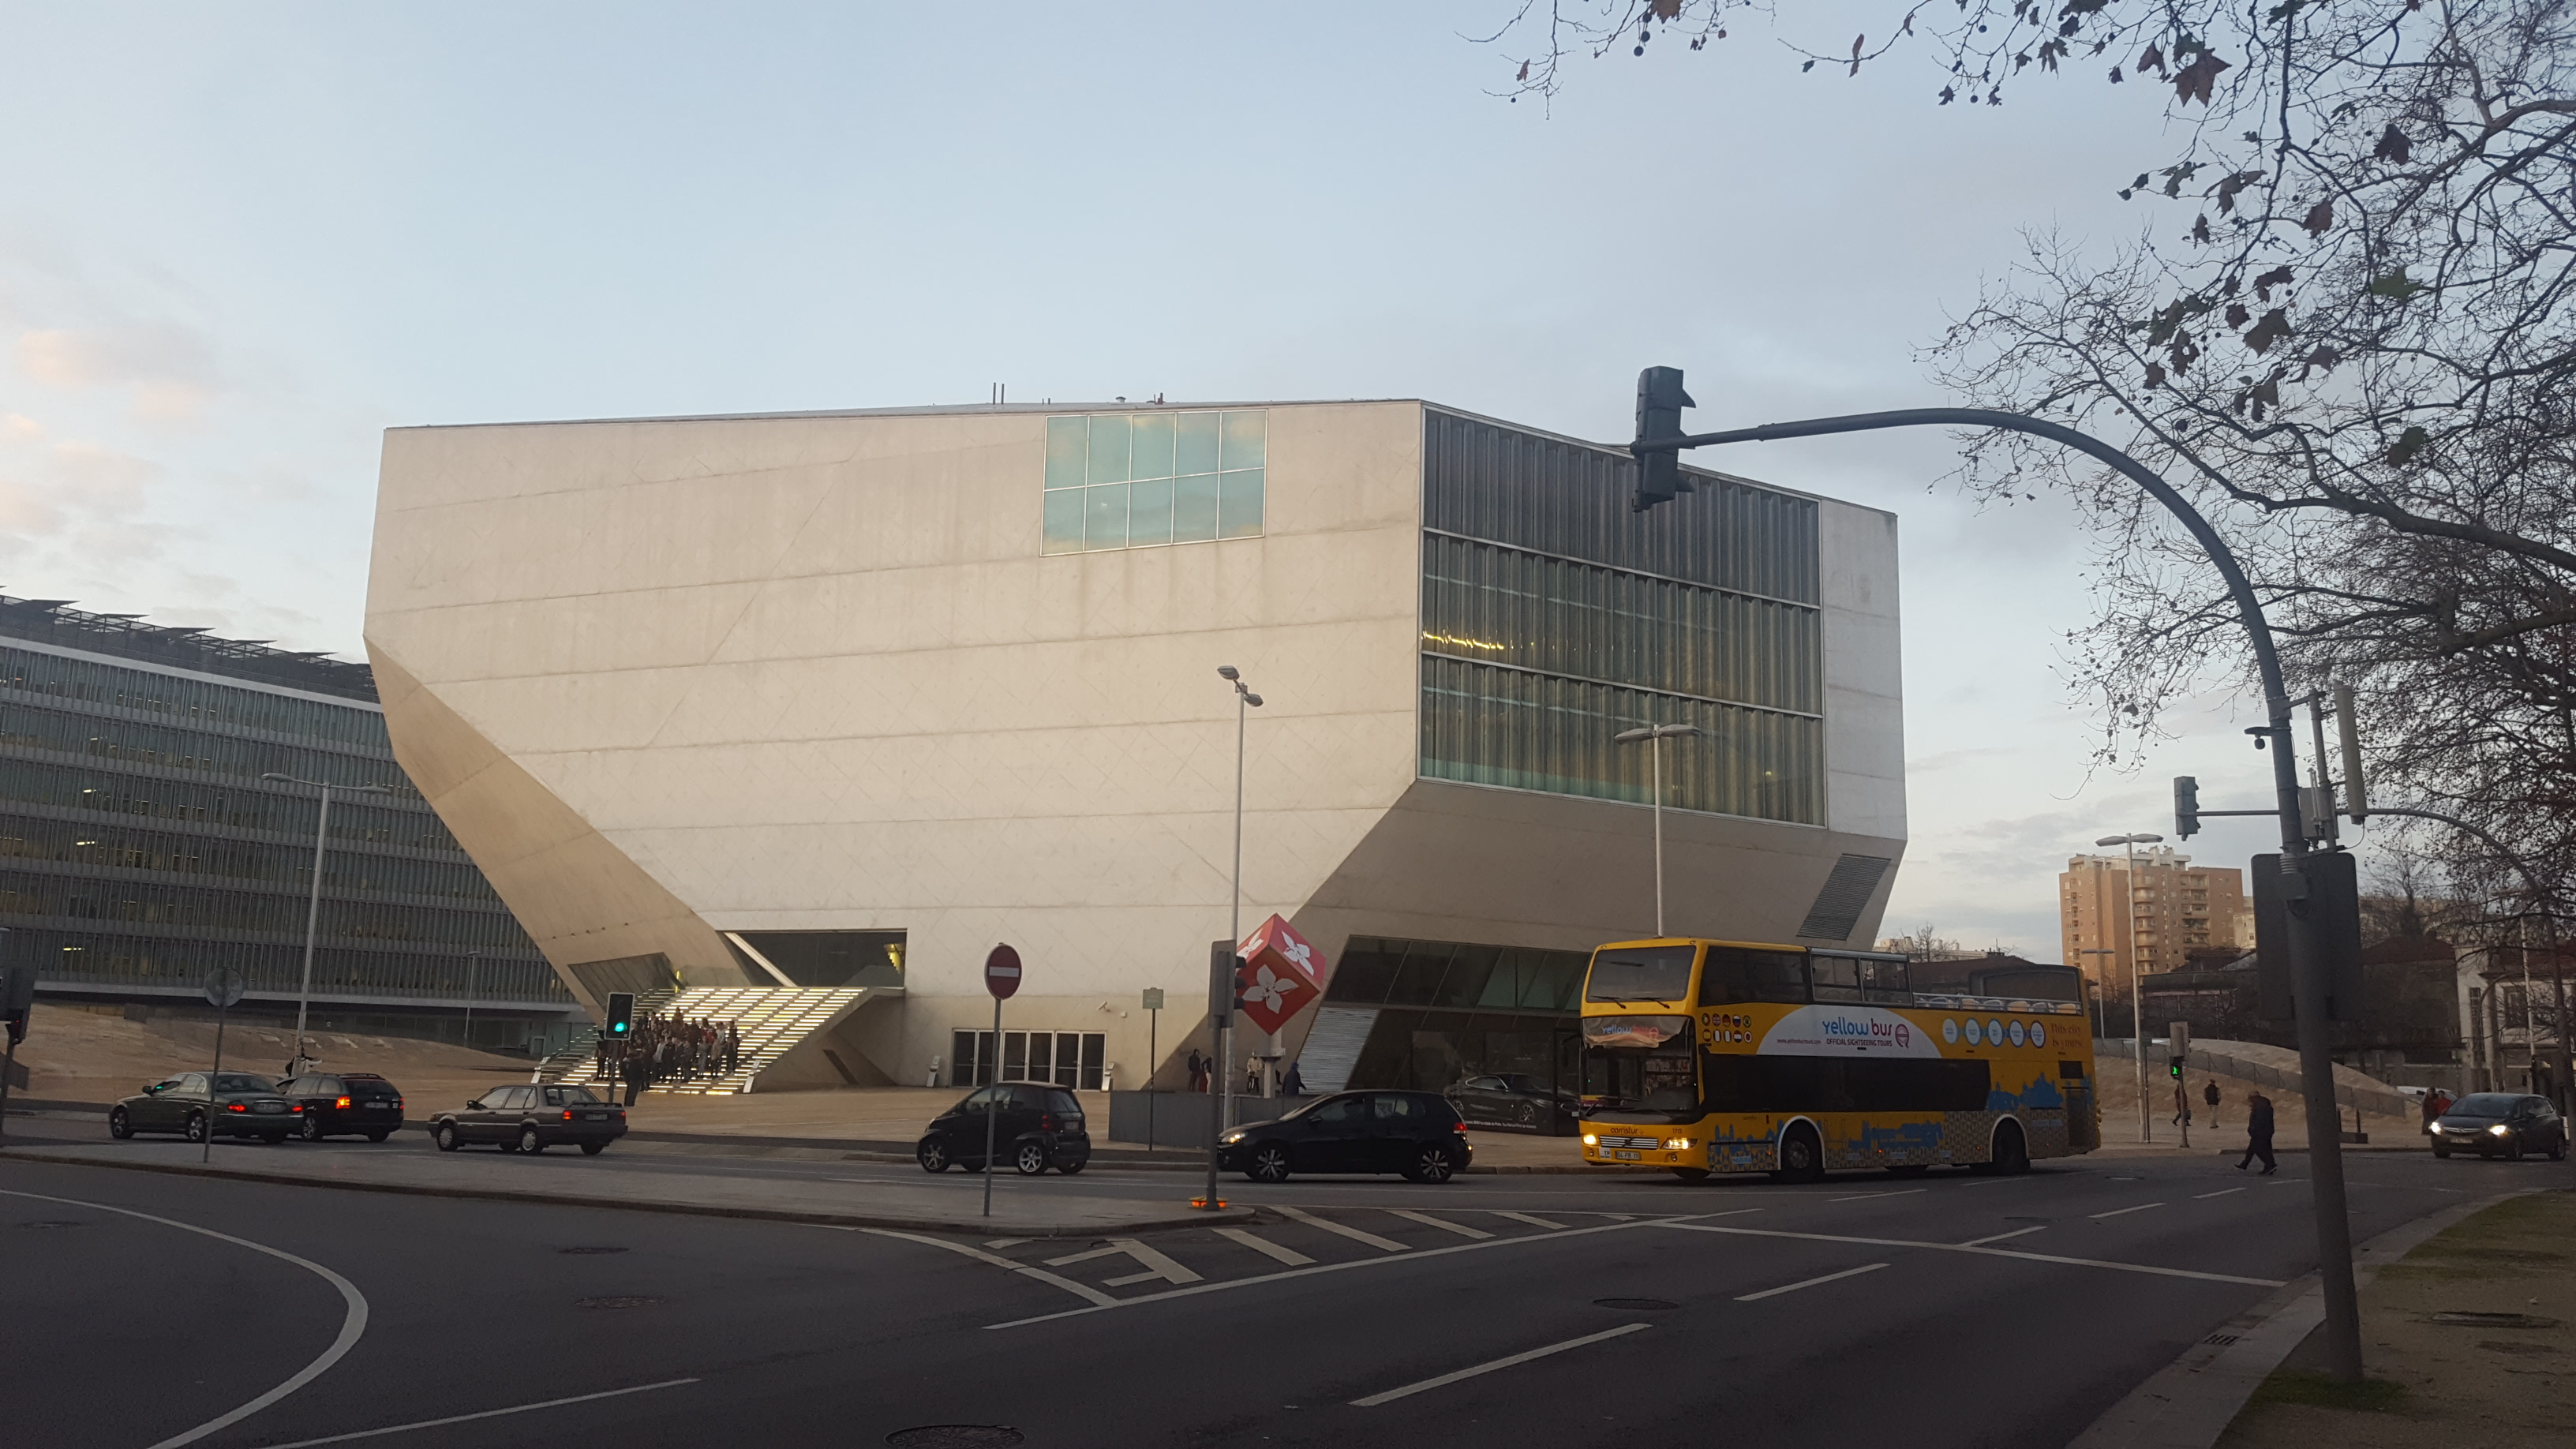musica: (375, 410, 1941, 1054)
